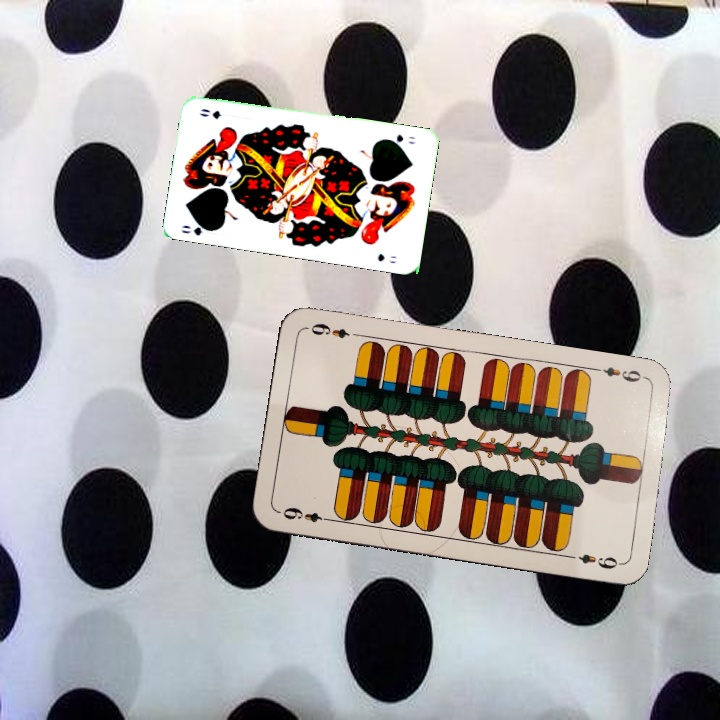E9: (276, 503, 335, 525), (591, 363, 650, 385)
GO: (177, 218, 218, 238), (382, 130, 418, 147)
